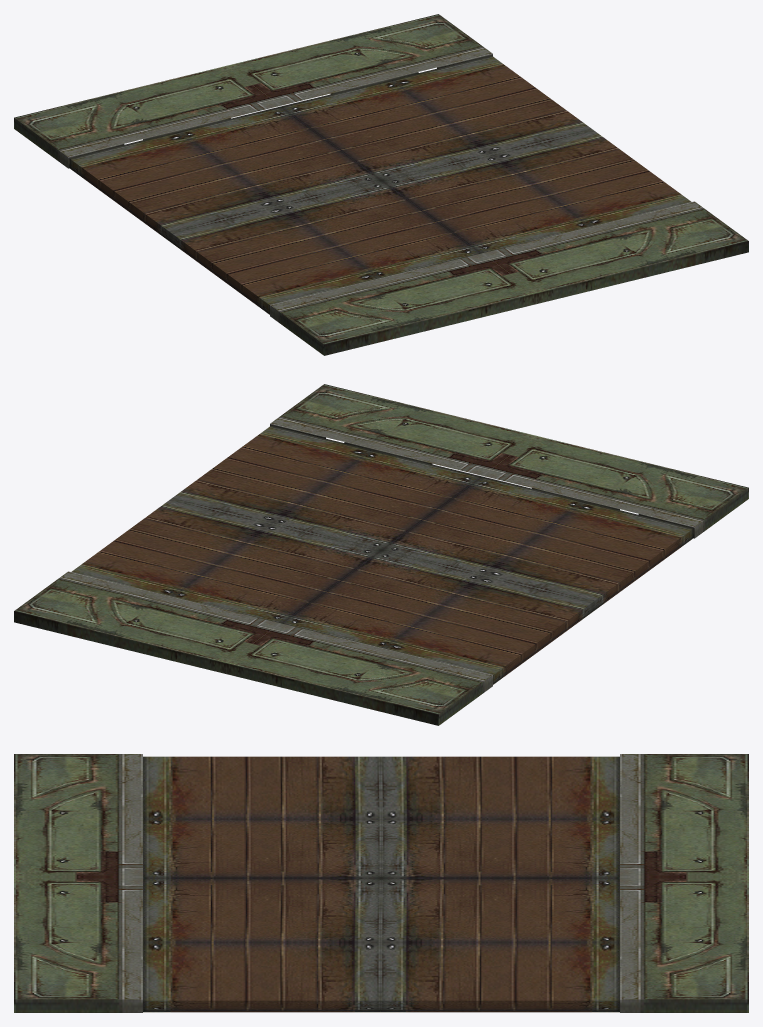
Rendered from yw_yiwangfeixu_lumian02.FBX.
The picture shows the model from 3 angles, top to bottom: view 1: azimuth 30°, elevation 25°; view 2: azimuth 150°, elevation 25°; view 3: azimuth 270°, elevation 25°; orthographic projection. The views are drawn at different scales.
Parts seen in each view (by area): view 1: yw_yiwangfeixu_lumian01; view 2: yw_yiwangfeixu_lumian01; view 3: yw_yiwangfeixu_lumian01.
Part boxes in pixels (bbox=[...]): yw_yiwangfeixu_lumian01: bbox=[14, 14, 748, 355]; yw_yiwangfeixu_lumian01: bbox=[14, 384, 748, 725]; yw_yiwangfeixu_lumian01: bbox=[14, 754, 748, 1012].
Bounding box in the file's own units: 169 × 4.31 × 214.
